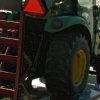Tractor: (24, 4, 100, 92)
